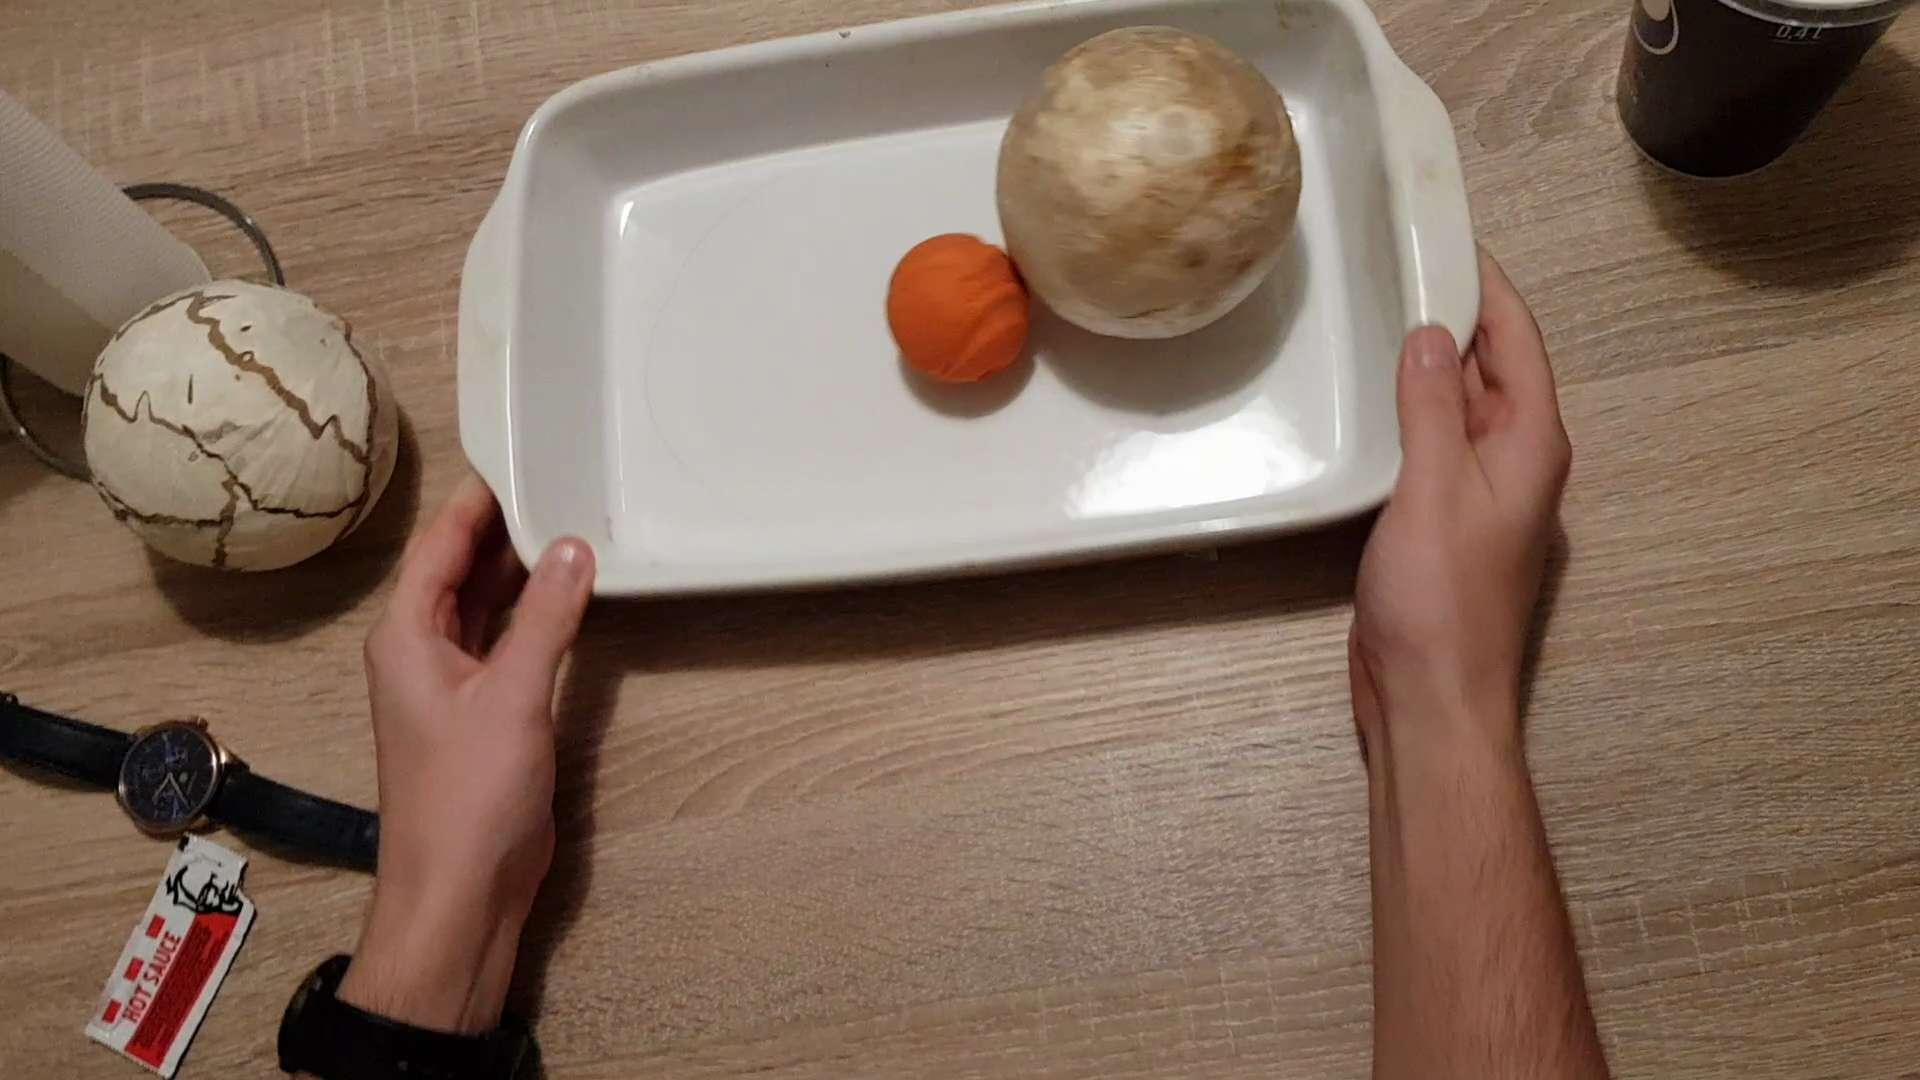Sphere: (885, 229, 1030, 393)
sphere: (91, 266, 382, 582), (992, 30, 1284, 335)
